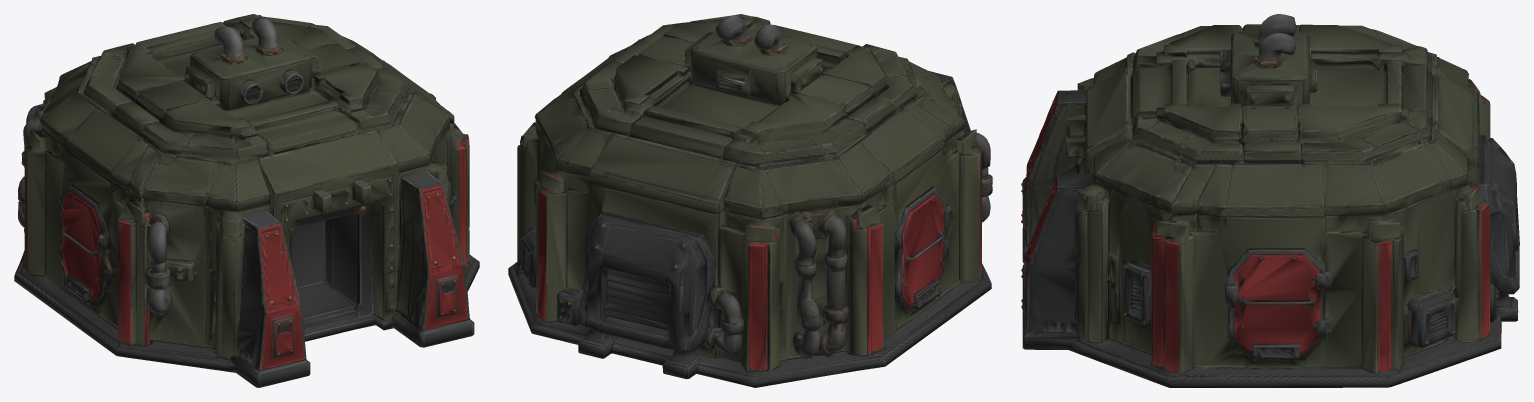
The model's file is barracks.glb.
3 renders of one model, left to right at view 1: azimuth 30°, elevation 25°; view 2: azimuth 150°, elevation 25°; view 3: azimuth 270°, elevation 25°, orthographic. The views are drawn at different scales.
Visible parts, largest first — view 1: mesh_node; view 2: mesh_node; view 3: mesh_node.
Boxes of the visible parts, bbox=[...] form: mesh_node: bbox=[14, 14, 479, 387]; mesh_node: bbox=[508, 14, 992, 387]; mesh_node: bbox=[1021, 14, 1519, 387].
Bounding box in the file's own units: 1.8 × 1.19 × 2.
1 material, 1 textured.
